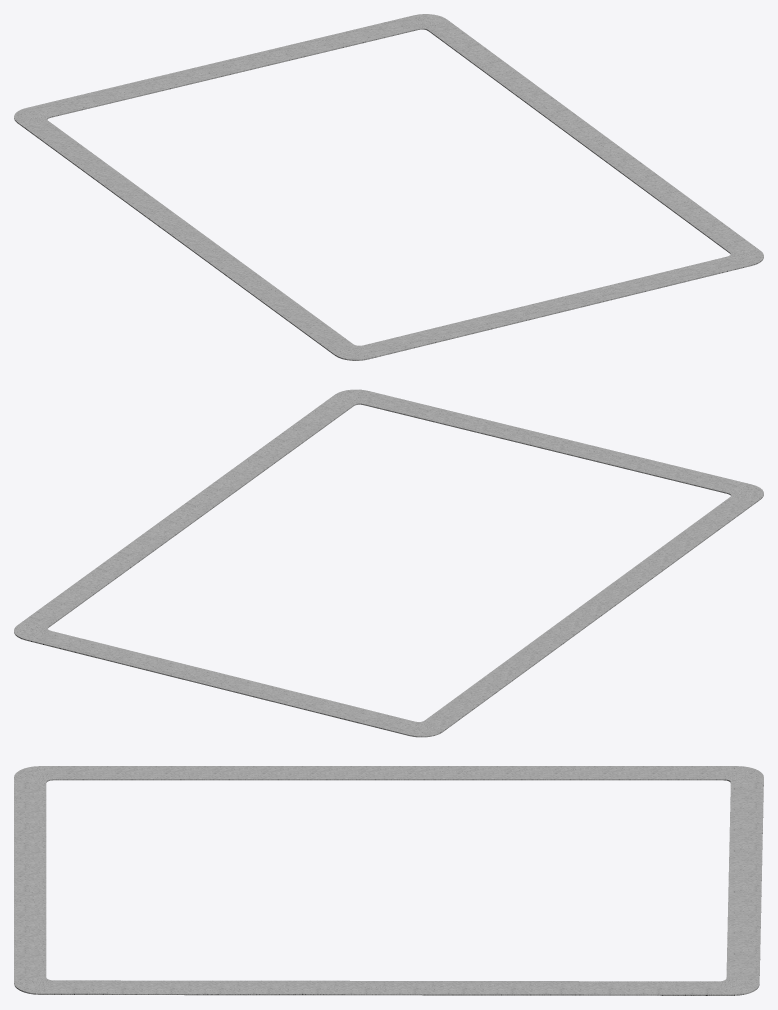
Rendered from dikuai05rxd.FBX.
3 renders of one model, top to bottom at view 1: azimuth 30°, elevation 25°; view 2: azimuth 150°, elevation 25°; view 3: azimuth 270°, elevation 25°, orthographic. The views are drawn at different scales.
Visible parts, largest first — view 1: dikuai05rxd; view 2: dikuai05rxd; view 3: dikuai05rxd.
Boxes of the visible parts, x1,y1,x2,y2 form: dikuai05rxd: (14, 14, 763, 360); dikuai05rxd: (14, 389, 763, 737); dikuai05rxd: (14, 766, 763, 995).
Bounding box in the file's own units: 1999 × 5 × 2771.
